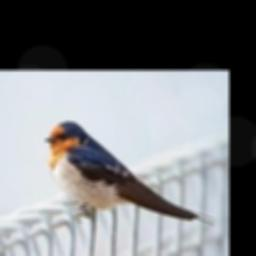Swallow: (45, 121, 215, 225)
